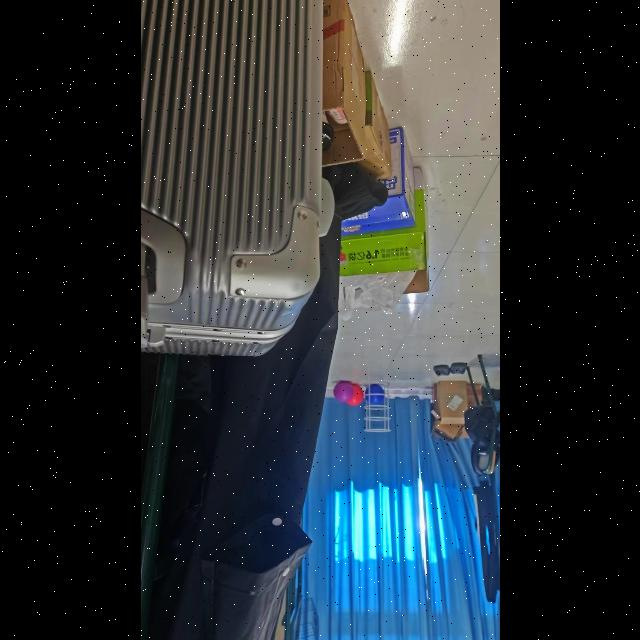B: (364, 385, 384, 405)
P: (333, 381, 354, 403)
R: (346, 383, 363, 405)
S: (364, 385, 390, 433)
